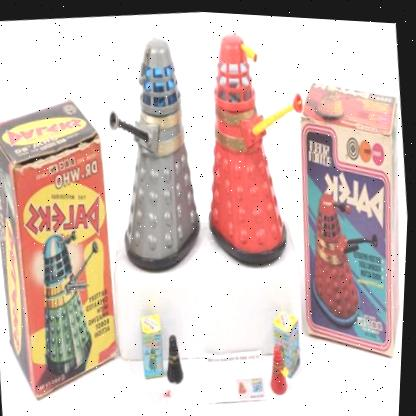dalek: (176, 22, 327, 280), (87, 19, 214, 288)
